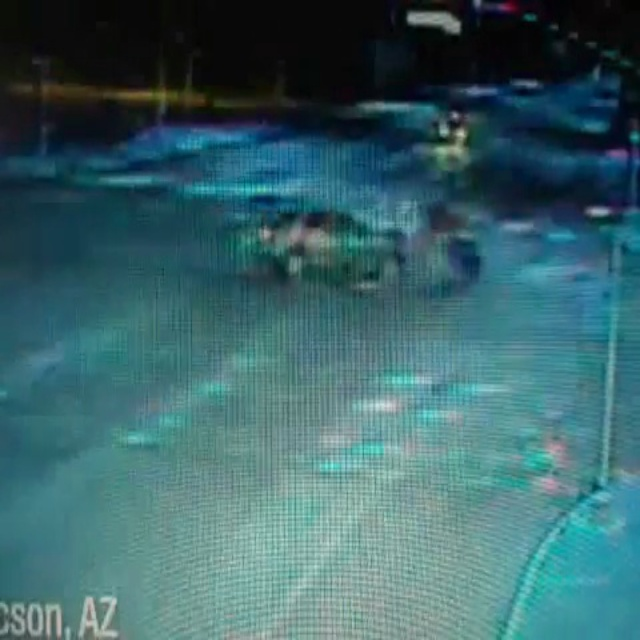acc: (223, 177, 486, 303)
